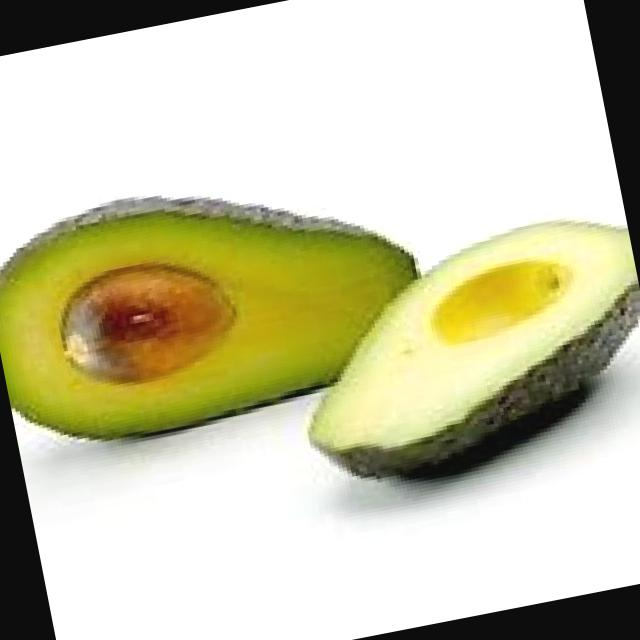avocado: (0, 151, 453, 464), (267, 210, 640, 508)
